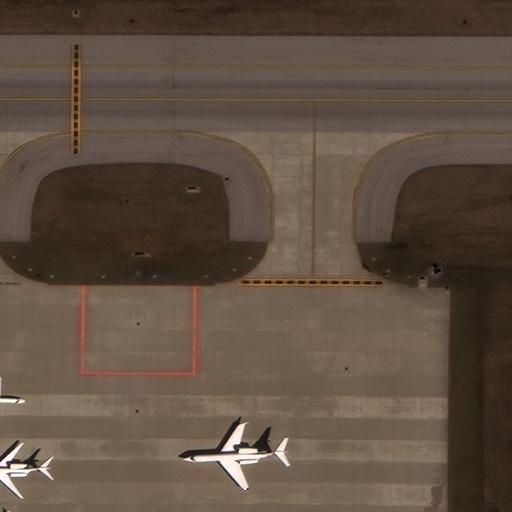Medium Civil Transport: (182, 424, 287, 490), (0, 441, 51, 499), (0, 377, 26, 422)
